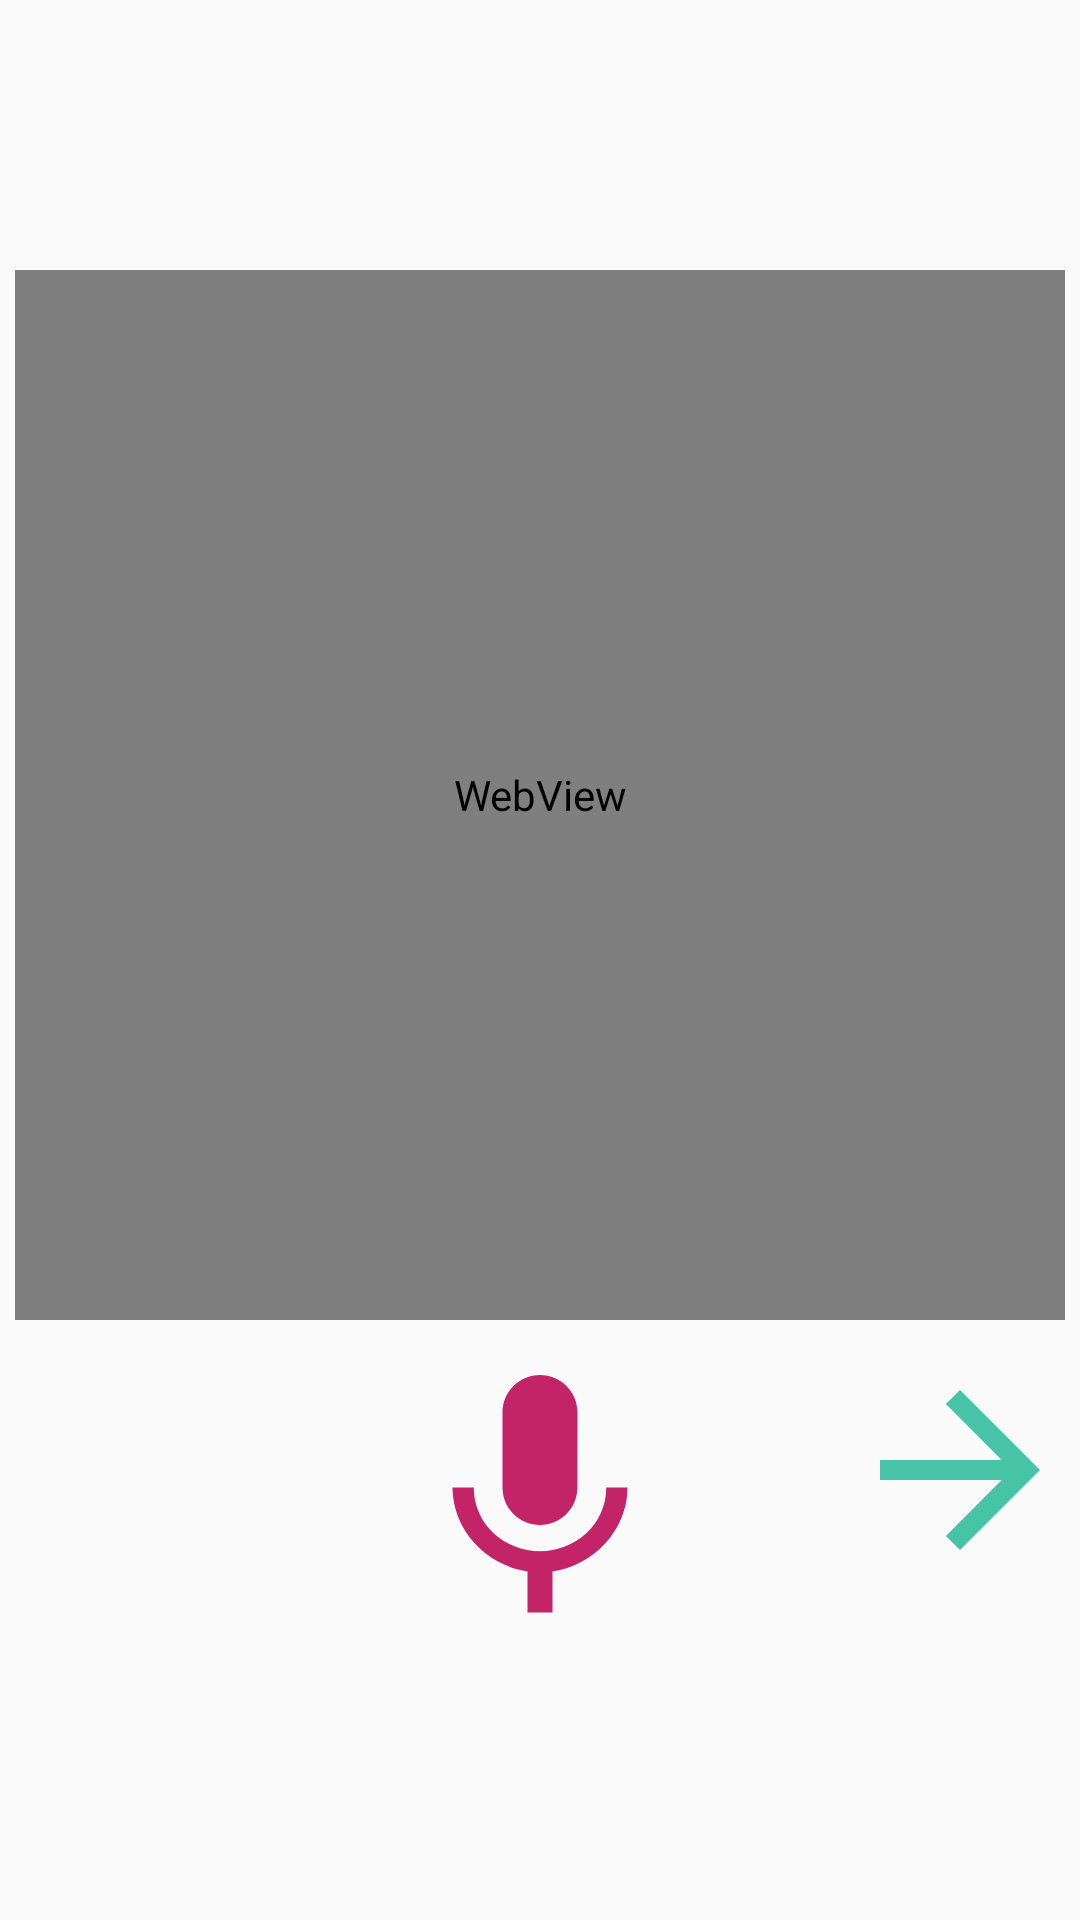

Named icons in this screenshot (1080px×1920px) and their bounding boxes, (x1, y1, x2, y2):
mic: (452, 1375, 628, 1613)
next: (880, 1390, 1040, 1550)
